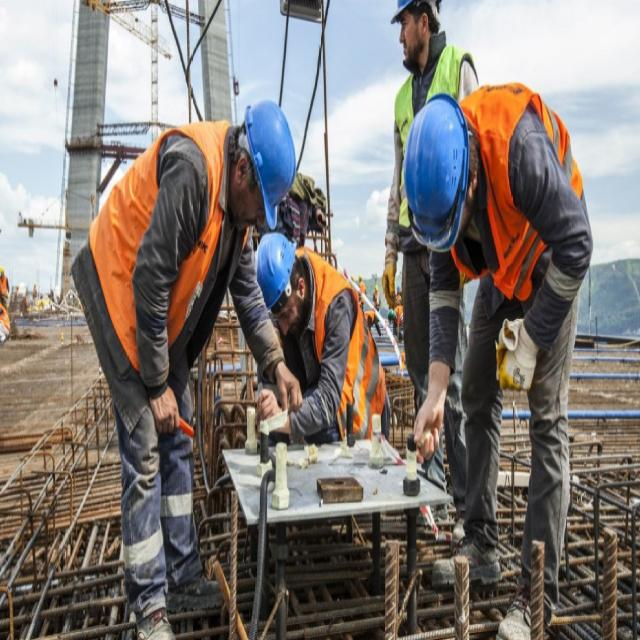Boots: (429, 526, 562, 640), (123, 532, 225, 640)
Gloves: (488, 308, 540, 399)
Hard Hat: (405, 81, 472, 259), (239, 78, 299, 235), (251, 228, 297, 312), (386, 0, 447, 27)
Reflective Vest: (74, 117, 252, 378), (455, 80, 593, 314), (294, 237, 386, 454), (383, 45, 477, 234)
